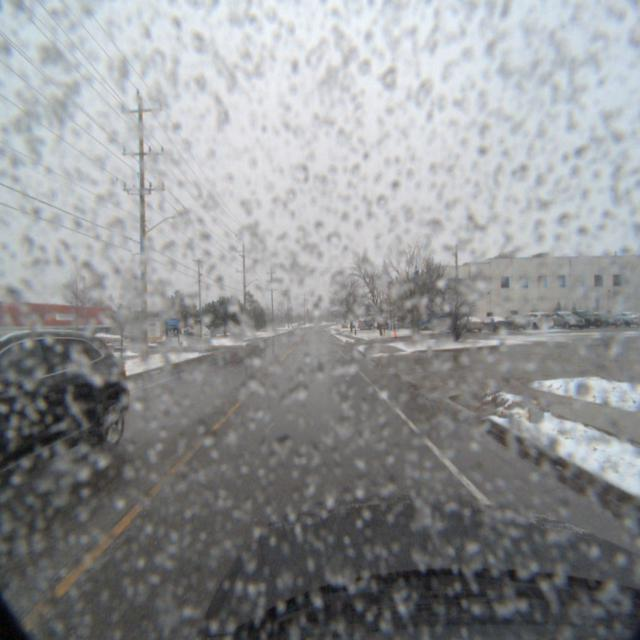Car: (548, 310, 590, 329), (521, 310, 560, 328), (499, 313, 537, 331), (481, 316, 513, 332)
